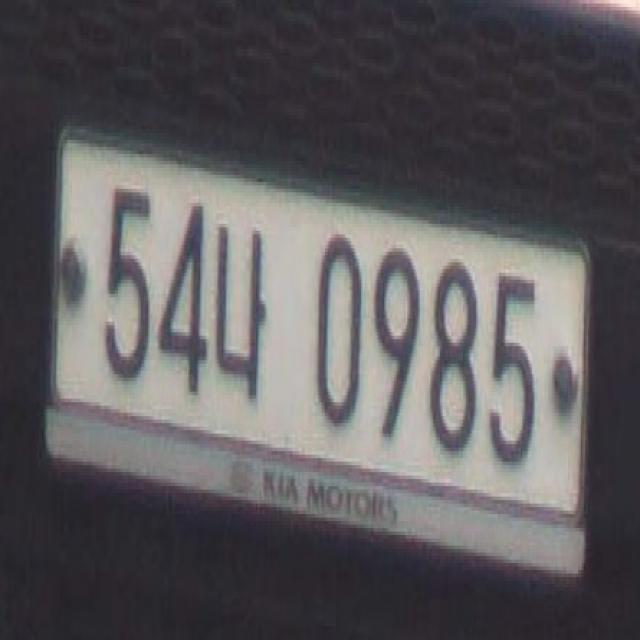0: (312, 210, 360, 454)
4: (160, 178, 214, 424)
5: (484, 269, 540, 493), (98, 175, 151, 409)
8: (418, 241, 479, 493)
9: (365, 241, 426, 465)
license_plate: (41, 122, 586, 622)
na: (210, 200, 276, 423)
